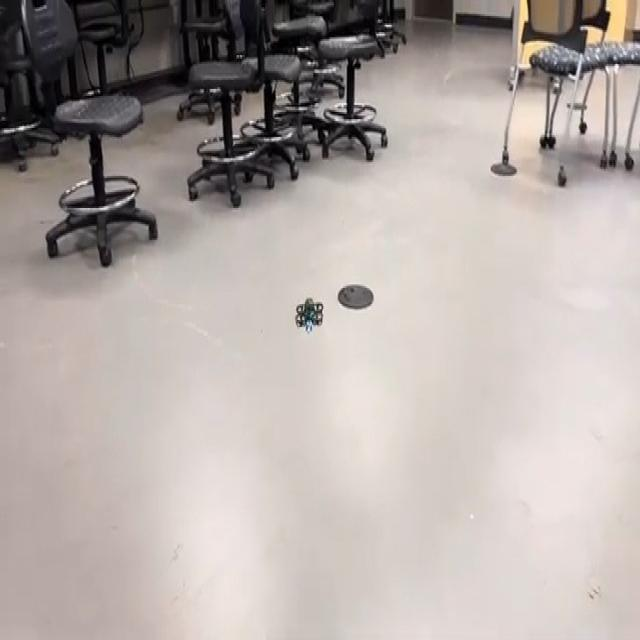drone: (290, 281, 330, 347)
